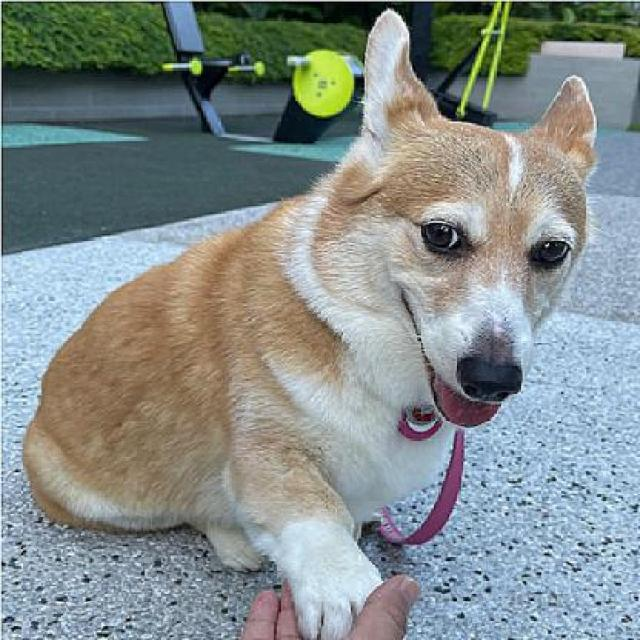Dog: (20, 7, 605, 638)
